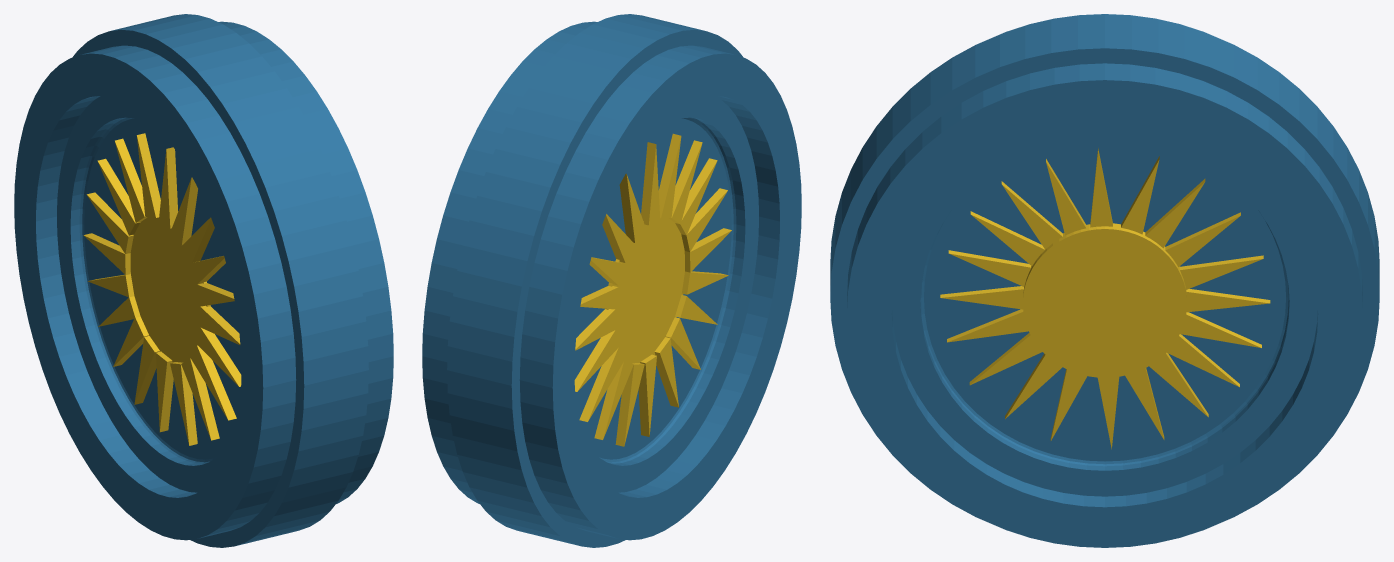
Rendered from arscoin.gltf.
3 views of the same model, side by side, from view 1: azimuth 30°, elevation 25°; view 2: azimuth 150°, elevation 25°; view 3: azimuth 270°, elevation 25° (orthographic). The views are drawn at different scales.
Parts seen in each view (by area): view 1: Cylinder; view 2: Cylinder; view 3: Cylinder.
Boxes of the visible parts, x1=… form: Cylinder: x1=14, y1=14, x2=393, y2=547; Cylinder: x1=422, y1=14, x2=801, y2=547; Cylinder: x1=830, y1=14, x2=1379, y2=547.
Size of the model in its own units: 0.569 by 2 by 2.
